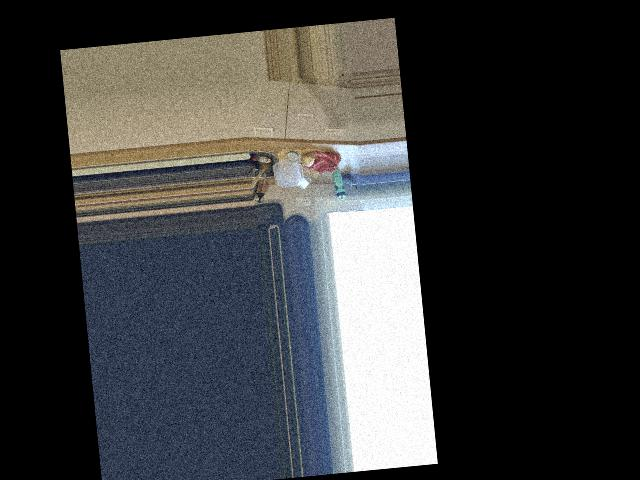onion: (301, 148, 319, 168)
